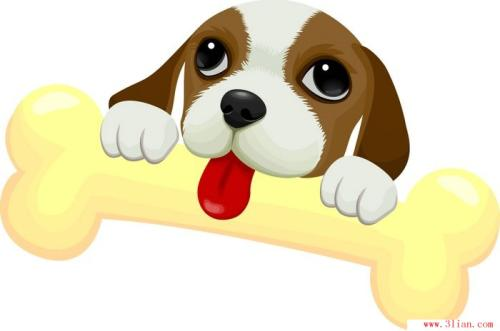dog: (83, 15, 415, 235)
